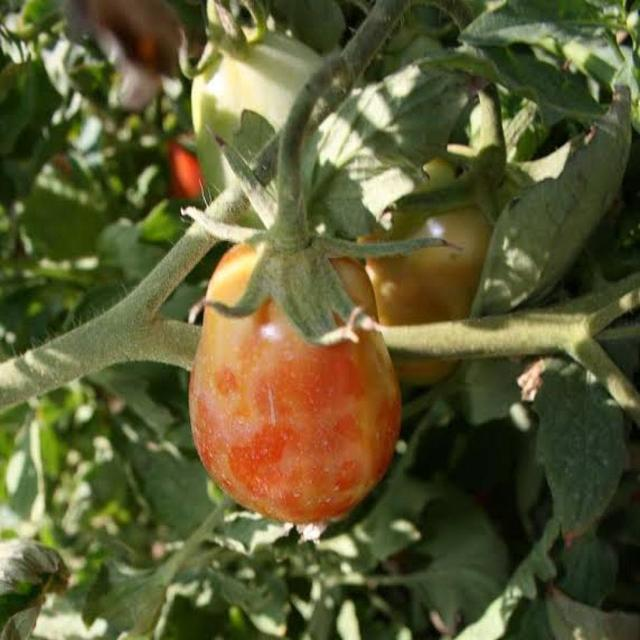Spotted wilt Virus Fruit: (126, 153, 270, 353)
